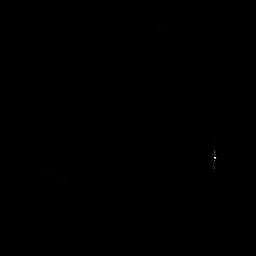ship: (209, 146, 219, 174)
